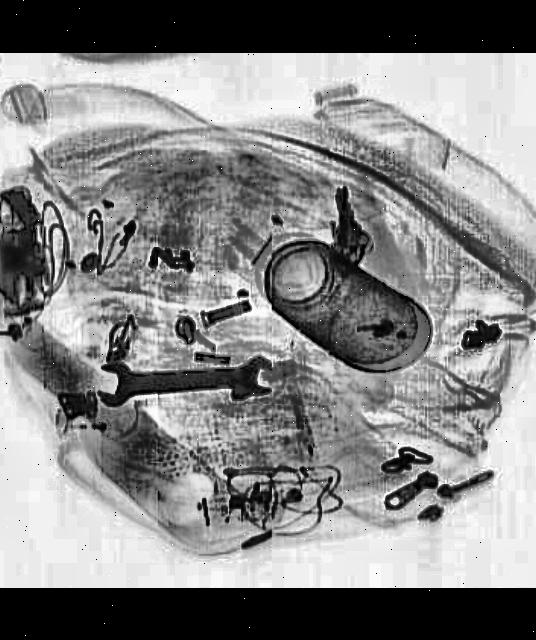Wrench: (100, 352, 276, 403)
